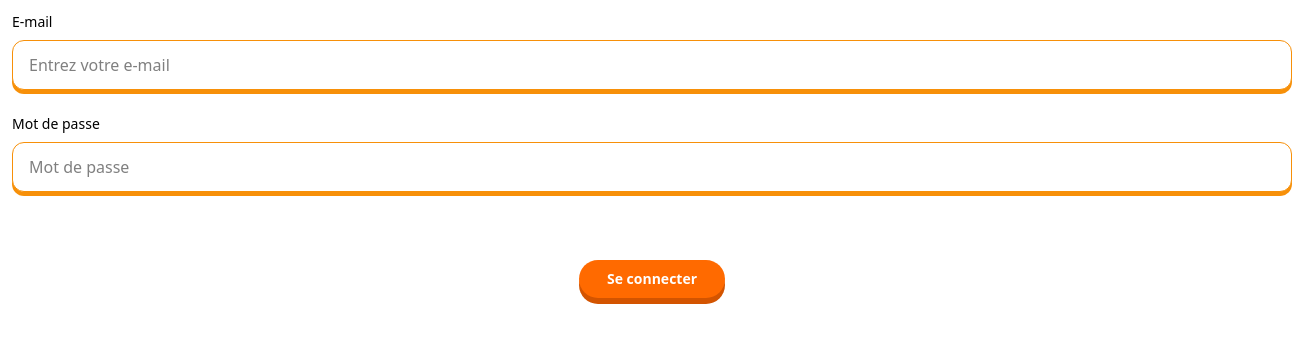
LoginForm.vue › affiche un message d’erreur si l’API échoue
The image size is (1304, 358).
Type "fail@mail.com" into the field with id "email" at coordinates (652, 65), box left=12, top=40, right=1292, bottom=90
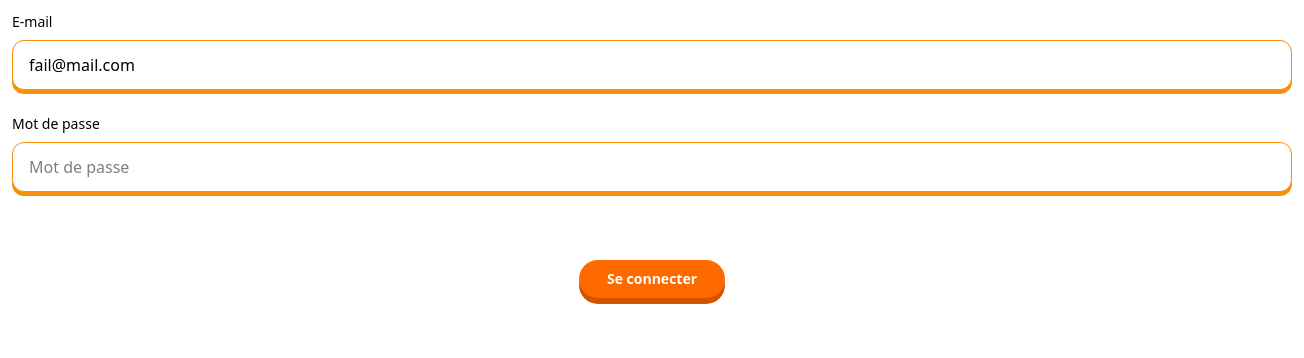
Type "wrongpass" into the password field with placeholder "Mot de passe" at coordinates (652, 167), box left=12, top=142, right=1292, bottom=192
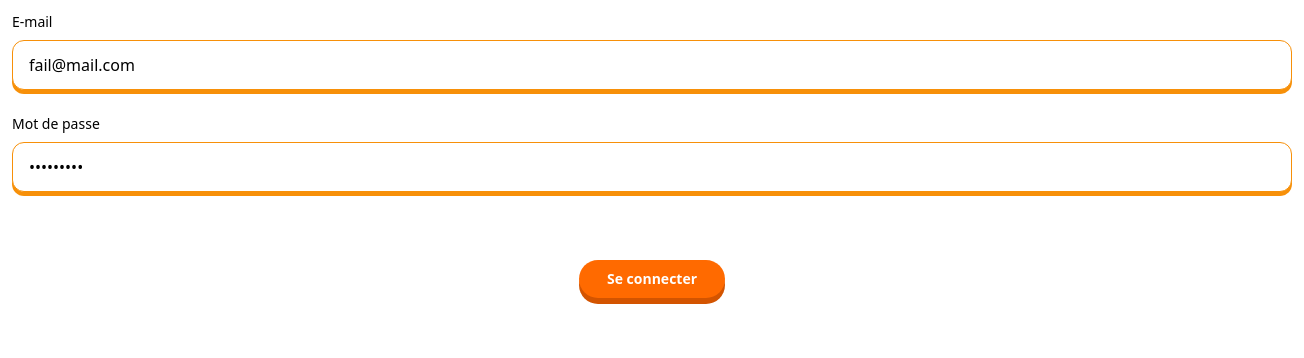
Submit the form
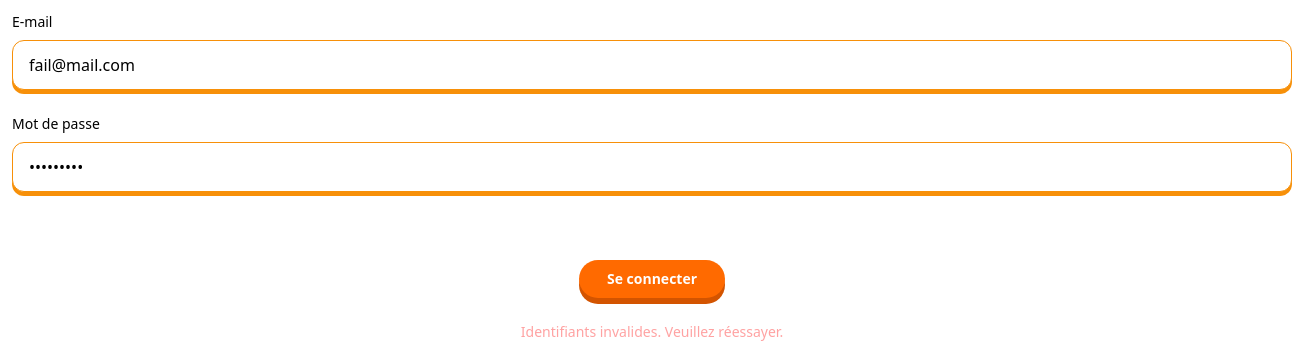
Expected: the form shows "Identifiants invalides", left=521, top=322, right=783, bottom=341
